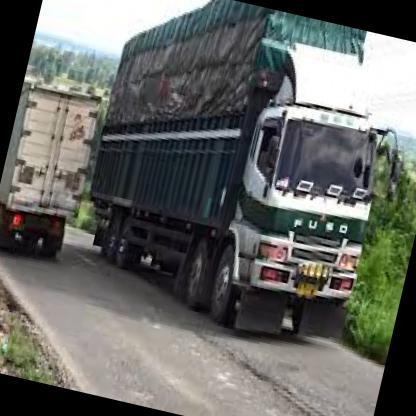truck: (207, 92, 397, 361)
